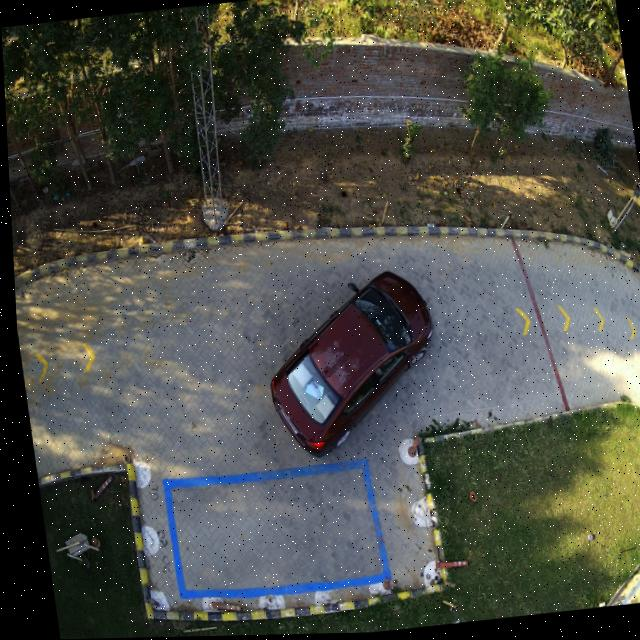car: (265, 272, 430, 459)
